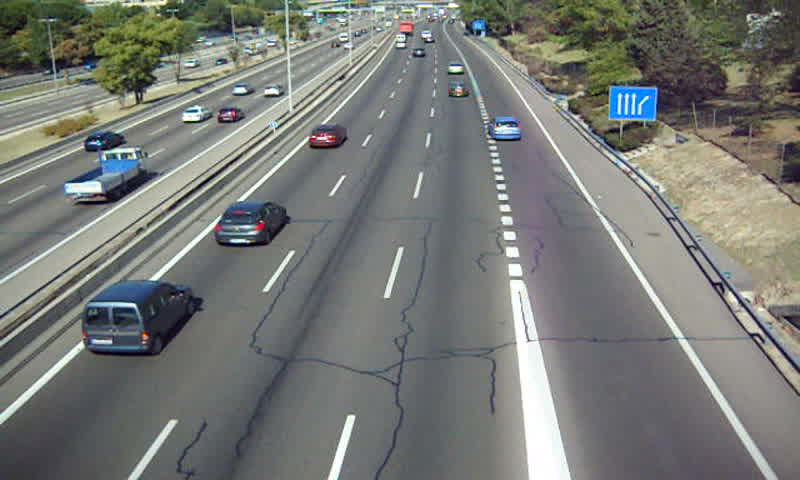car: (214, 201, 287, 244), (488, 116, 522, 140), (309, 125, 346, 147), (447, 81, 469, 97), (446, 60, 464, 72)
van: (83, 281, 194, 356)
